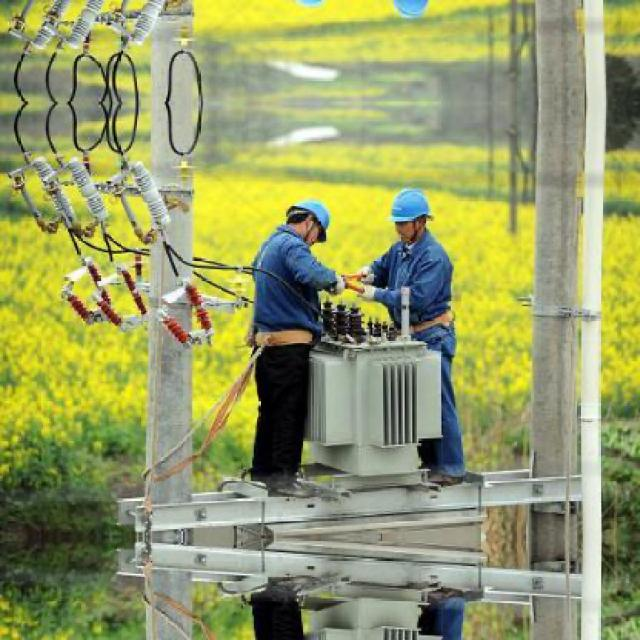helmet: (283, 192, 334, 245), (386, 185, 432, 243), (386, 0, 434, 20), (281, 0, 333, 12)
